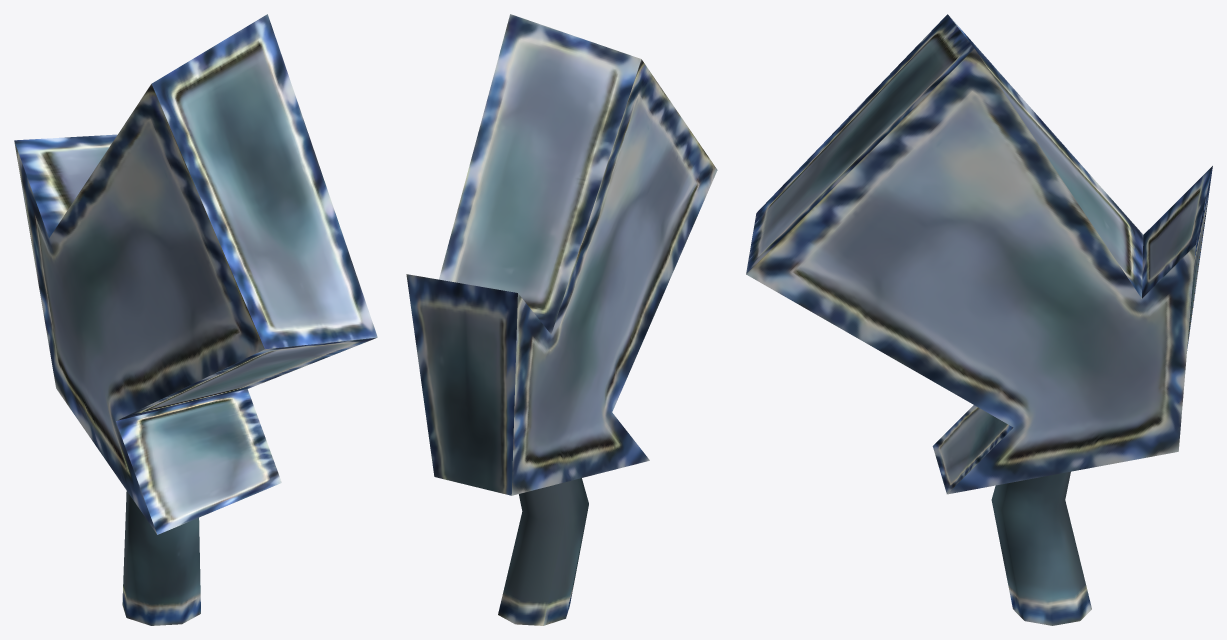
File: signdown-side.dae
3 views of the same model, side by side, from view 1: azimuth 30°, elevation 25°; view 2: azimuth 150°, elevation 25°; view 3: azimuth 270°, elevation 25° (orthographic). The views are drawn at different scales.
Parts seen in each view (by area): view 1: signdown_side; view 2: signdown_side; view 3: signdown_side.
Boxes of the visible parts, x1,y1,x2,y2 form: signdown_side: (14,14,377,625); signdown_side: (406,14,717,625); signdown_side: (746,14,1212,625).
Size of the model in its own units: 0.3359 by 1.06 by 1.48.
